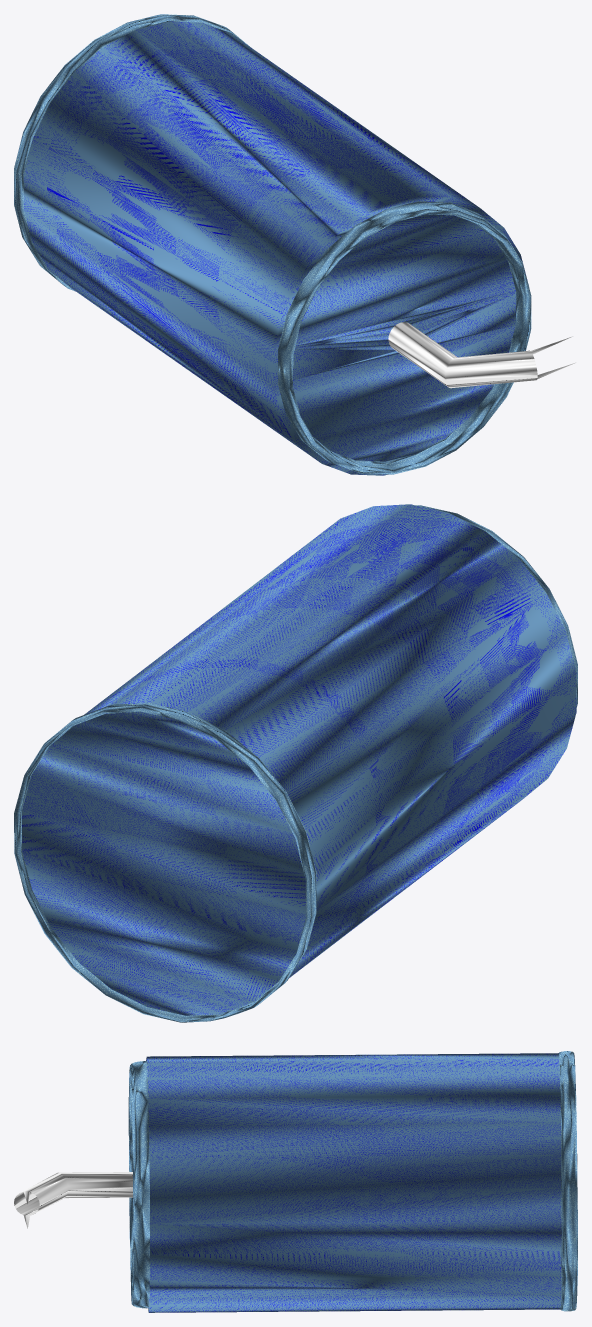
File: model_align.obj
3 renders of one model, top to bottom at view 1: azimuth 30°, elevation 25°; view 2: azimuth 150°, elevation 25°; view 3: azimuth 270°, elevation 25°, orthographic. The views are drawn at different scales.
Bounding box in the file's own units: 0.0995 × 0.0972 × 0.2119.
